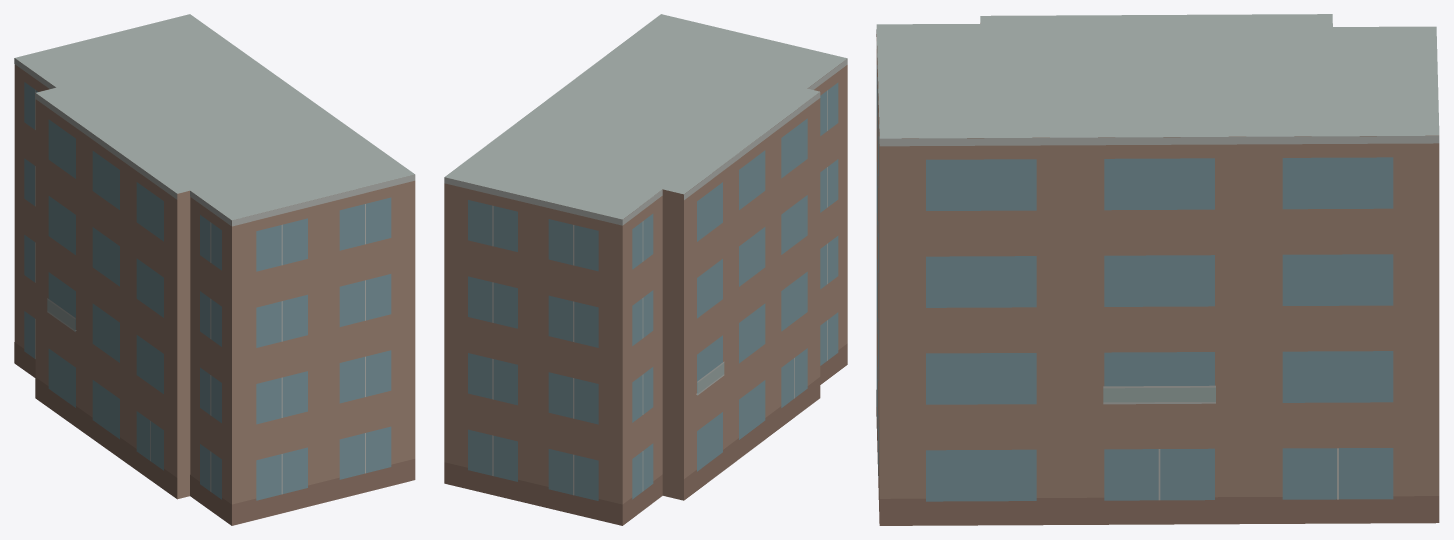
Rendered from survey-upis-32997415.glb.
3 renders of one model, left to right at view 1: azimuth 30°, elevation 25°; view 2: azimuth 150°, elevation 25°; view 3: azimuth 270°, elevation 25°, orthographic. The views are drawn at different scales.
Parts seen in each view (by area): view 1: survey-upis-32997415.tmp; view 2: survey-upis-32997415.tmp; view 3: survey-upis-32997415.tmp.
Boxes of the visible parts, x1,y1,x2,y2 form: survey-upis-32997415.tmp: (14,14,415,525); survey-upis-32997415.tmp: (444,14,847,525); survey-upis-32997415.tmp: (876,14,1439,525).
Size of the model in its own units: 8.45 by 12.2 by 16.08.
